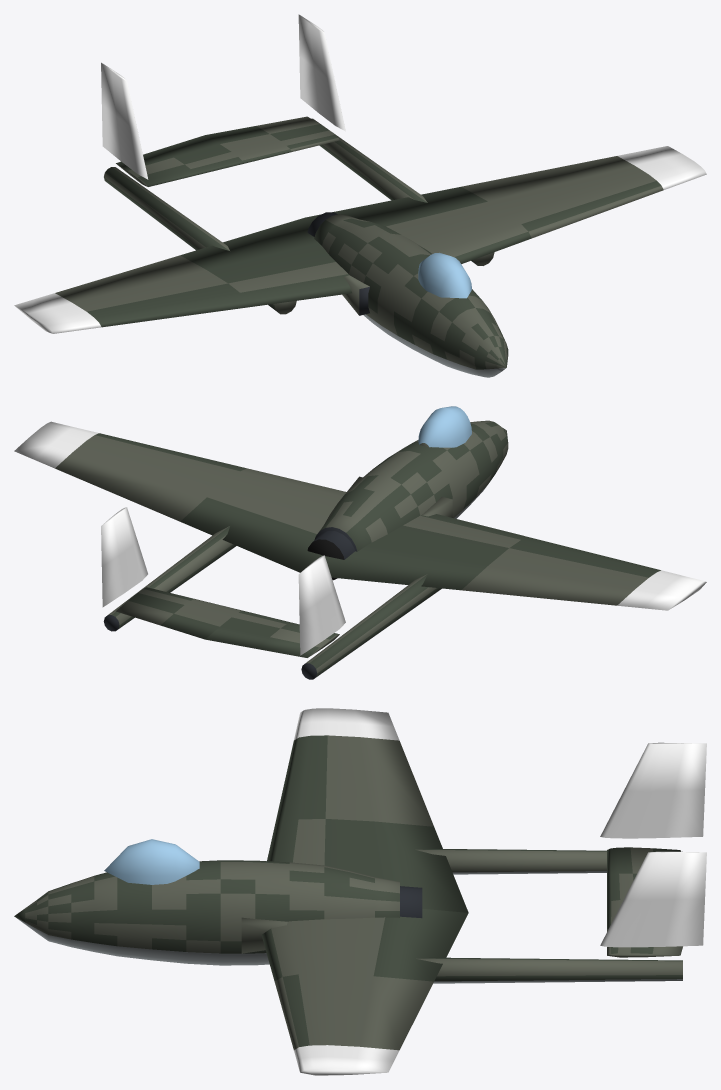
Rendered from vampire.glb.
The picture shows the model from 3 angles, top to bottom: view 1: azimuth 30°, elevation 25°; view 2: azimuth 150°, elevation 25°; view 3: azimuth 270°, elevation 25°; orthographic projection. The views are drawn at different scales.
Visible parts, largest first — view 1: body; view 2: body; view 3: body.
Part boxes in pixels (x1,y1,x2,y2): body: (14, 14, 706, 377); body: (14, 406, 706, 679); body: (14, 708, 706, 1075).
Size of the model in its own units: 11.58 by 2.44 by 9.42.
